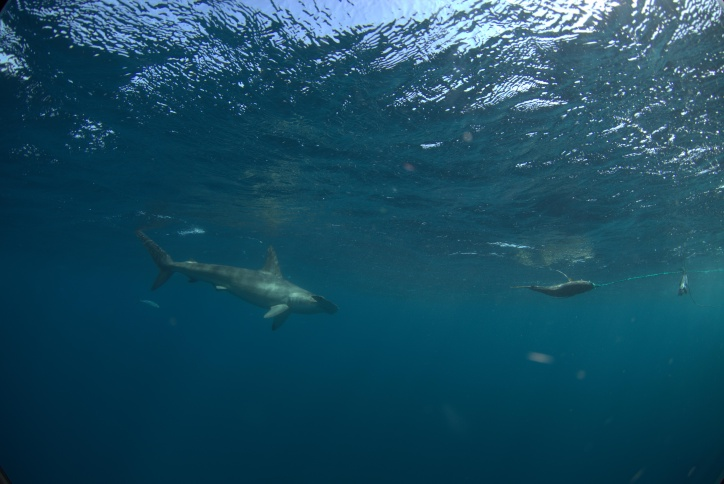Hammer: (89, 208, 367, 358)
